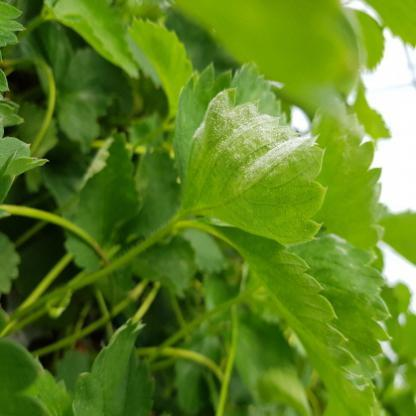Strawberry_Powdery_Mildew_Leaf: (177, 86, 329, 248)
